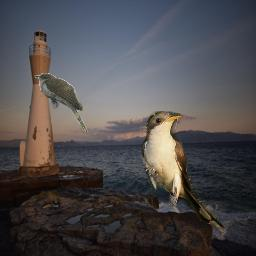Cuckoo: (141, 111, 227, 235), (34, 73, 88, 134)
